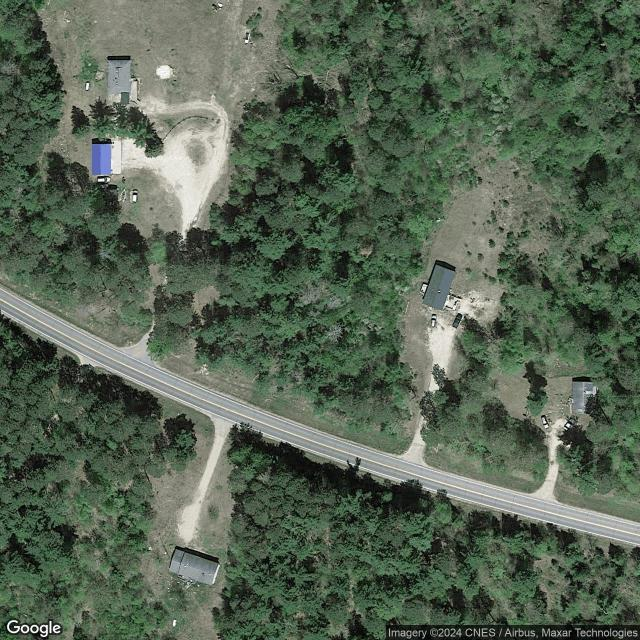Propane: (172, 618, 178, 628), (85, 81, 90, 91)
